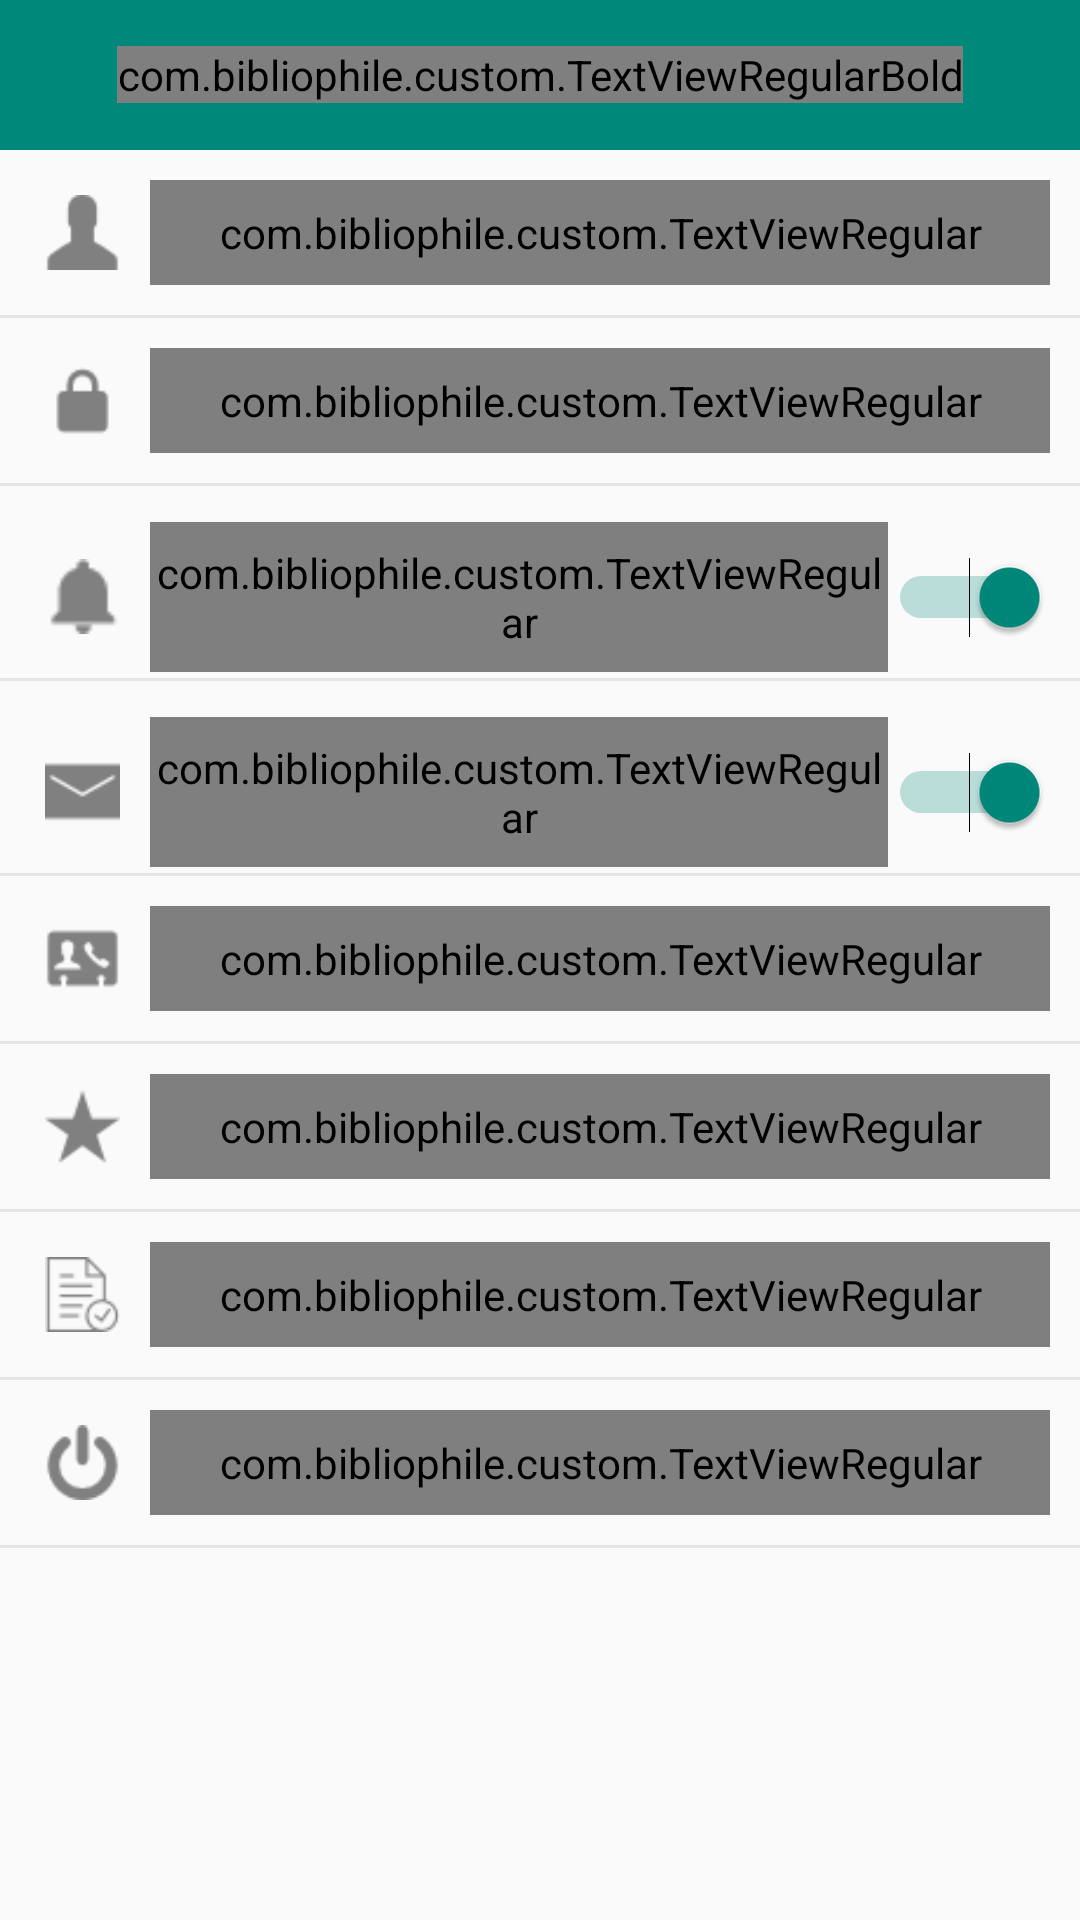

Icons on this 1080x1920 Android screen, each with the point to tap as (x,y):
account: (82,232)
contactus: (82,958)
mail: (82,791)
notifi bottom bar: (83,596)
password: (82,401)
rate: (82,1127)
terms: (82,1294)
